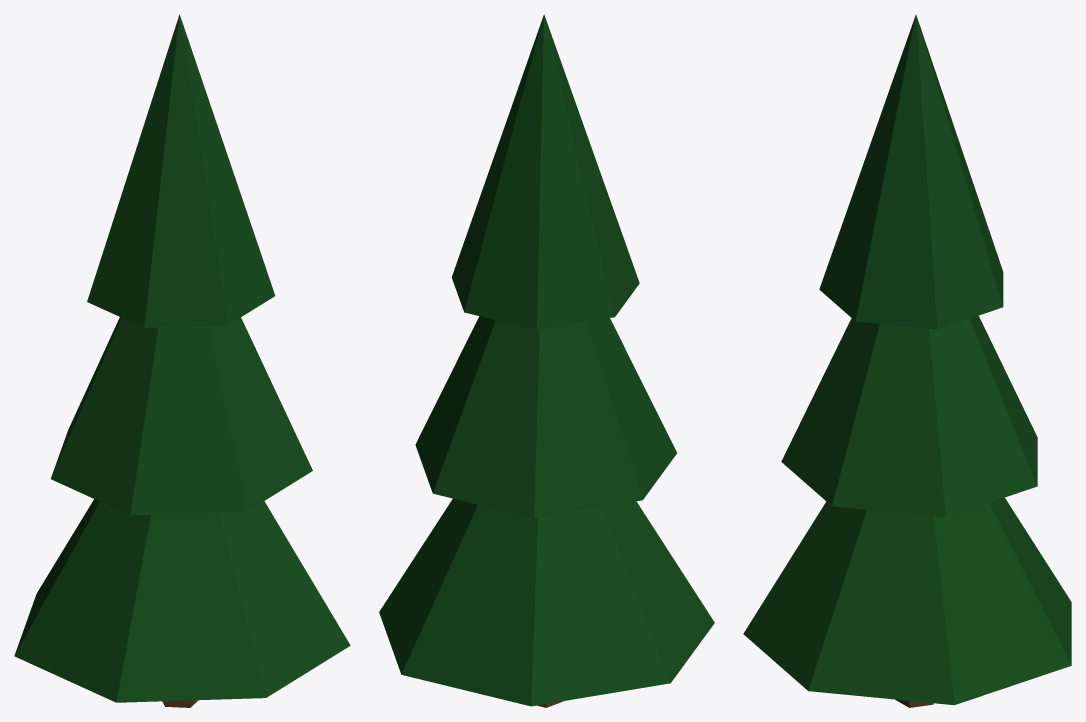
Rendered from land_tree_fir.glb.
3 renders of one model, left to right at view 1: azimuth 30°, elevation 25°; view 2: azimuth 150°, elevation 25°; view 3: azimuth 270°, elevation 25°, orthographic.
Bounding box in the file's own units: 4.68 × 10.5 × 4.56.
